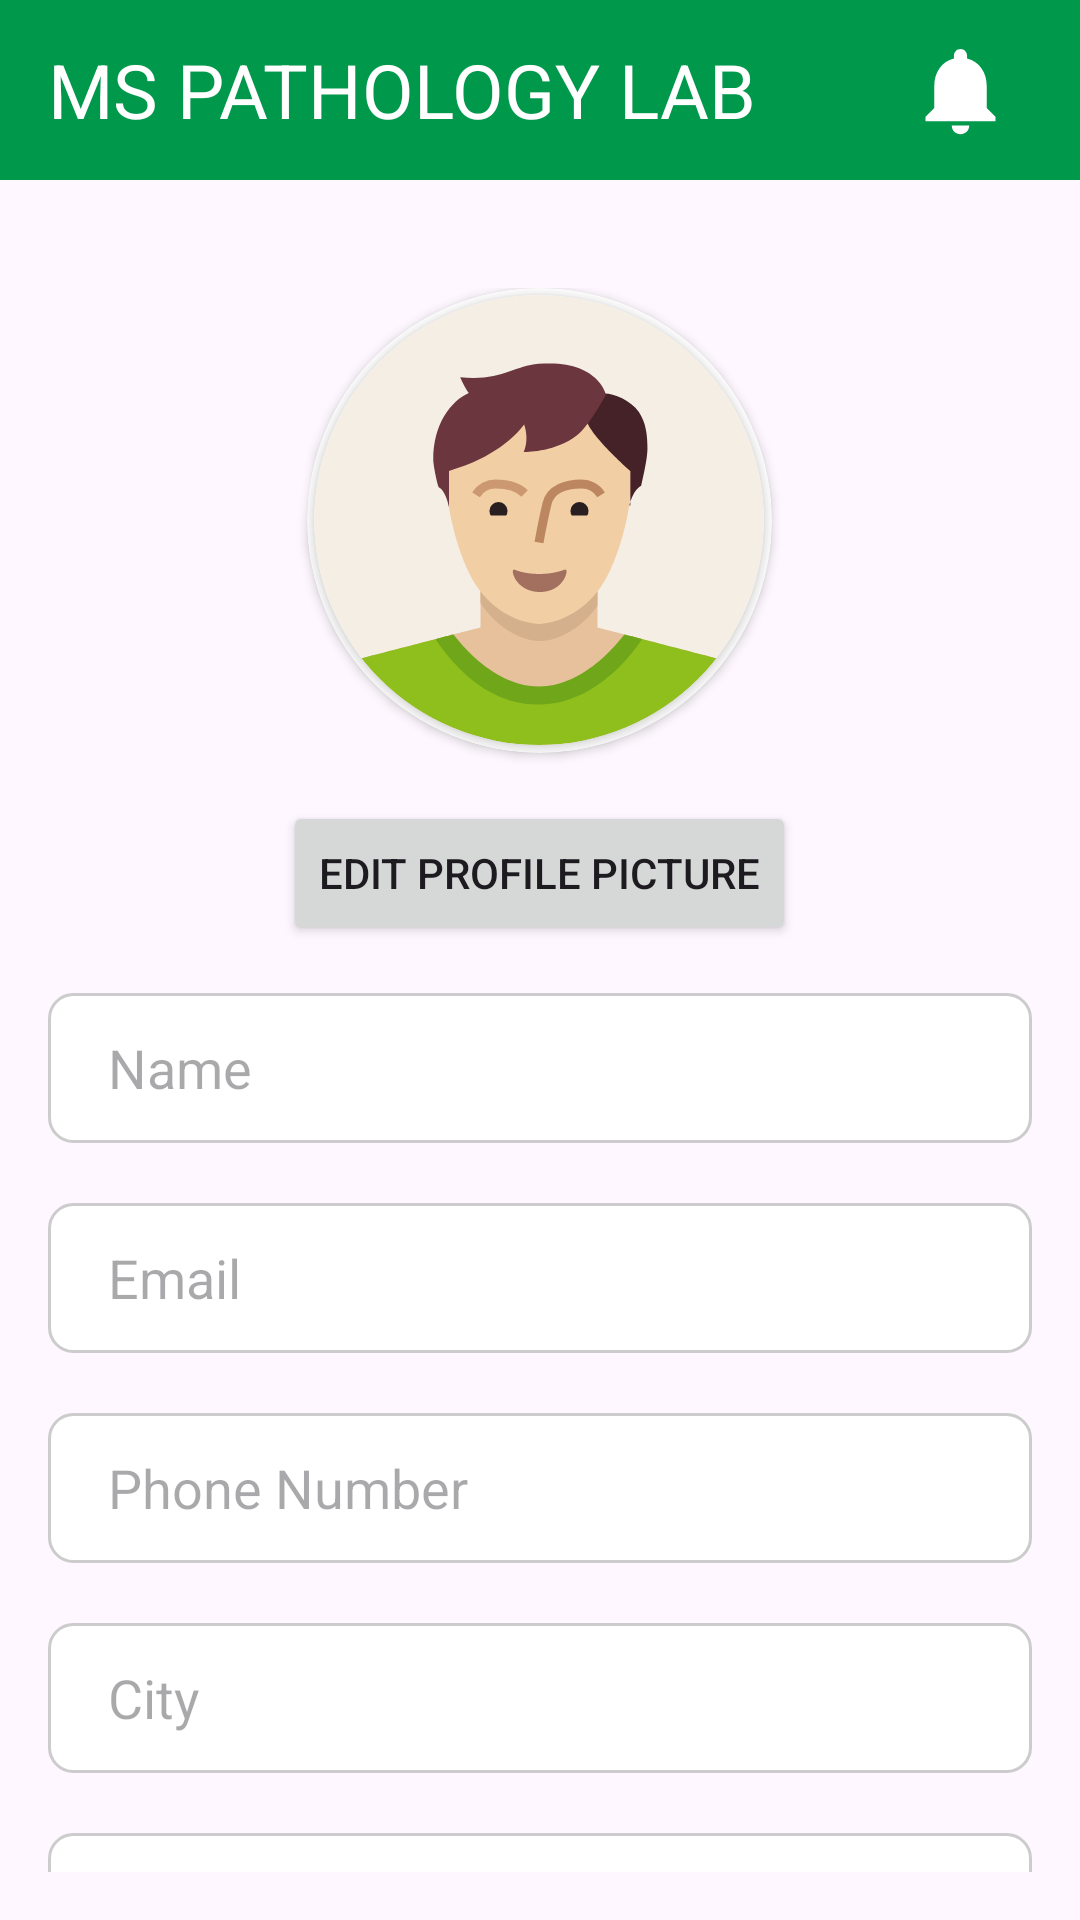

Screen size 1080px×1920px. Icon name, then its box in pixels as (x1, y1, x2, y2):
Notification Button: (925, 49, 996, 135)
